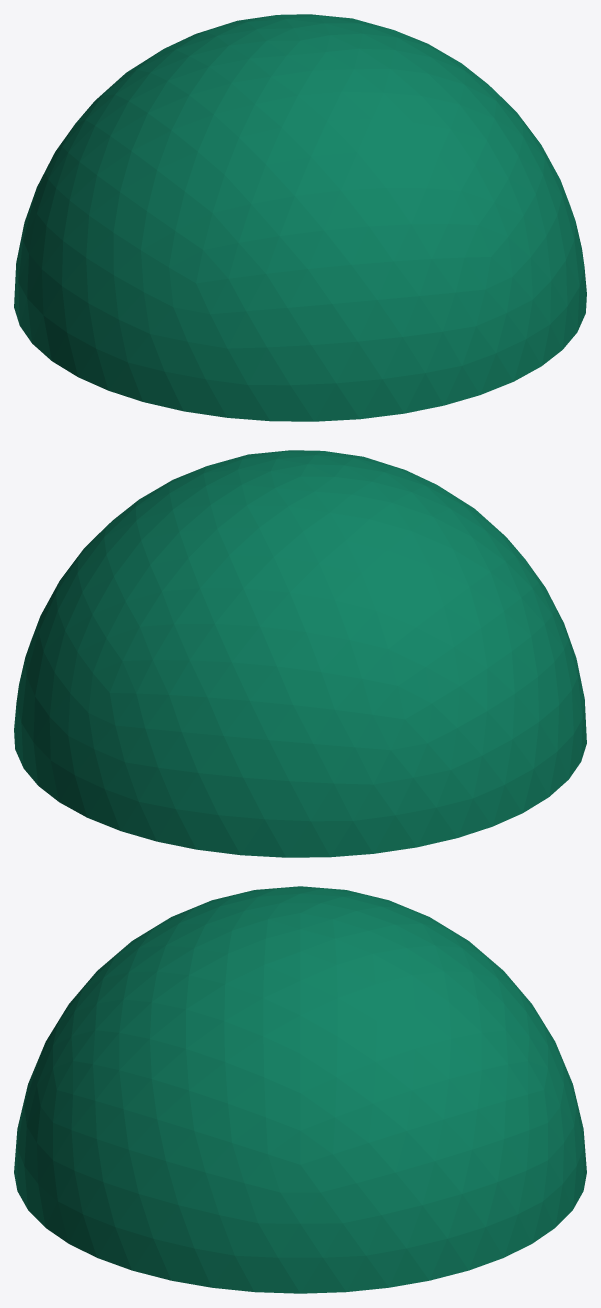
Rendered from copule.obj.
3 renders of one model, top to bottom at view 1: azimuth 30°, elevation 25°; view 2: azimuth 150°, elevation 25°; view 3: azimuth 270°, elevation 25°, orthographic.
Visible parts, largest first — view 1: Icosphere; view 2: Icosphere; view 3: Icosphere.
Boxes of the visible parts, bbox=[...] form: Icosphere: bbox=[14, 14, 586, 421]; Icosphere: bbox=[14, 450, 586, 857]; Icosphere: bbox=[14, 886, 586, 1293].
Bounding box in the file's own units: 2 × 1 × 2.
Materials: 1 (1 with a texture image).
